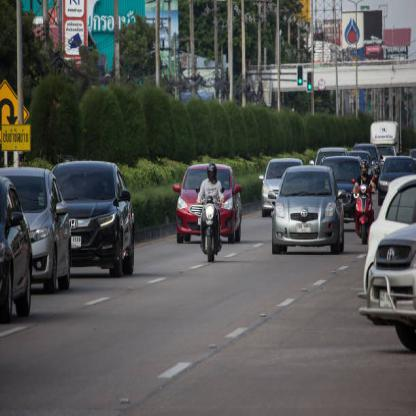Motorcycle: (199, 188, 223, 270)
